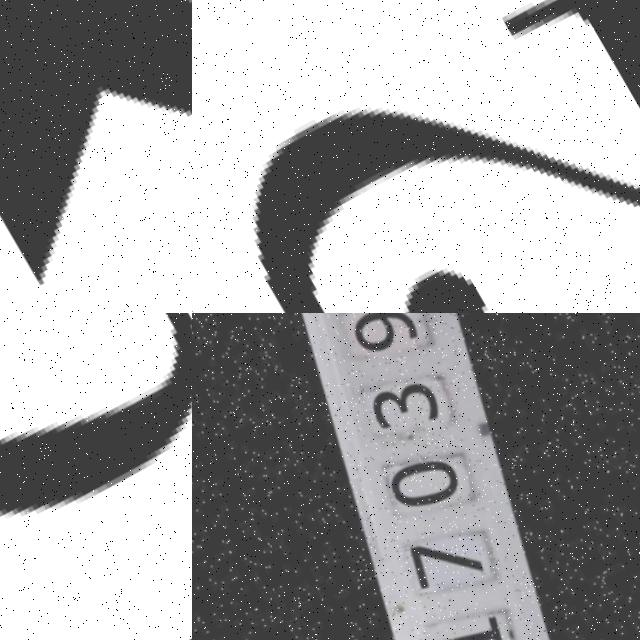0: (363, 422, 484, 542)
1: (404, 580, 529, 640)
2: (192, 0, 640, 313)
3: (344, 345, 464, 463)
6: (0, 313, 192, 640)
7: (386, 500, 505, 618)
9: (326, 313, 442, 384)
X: (0, 0, 192, 313)
